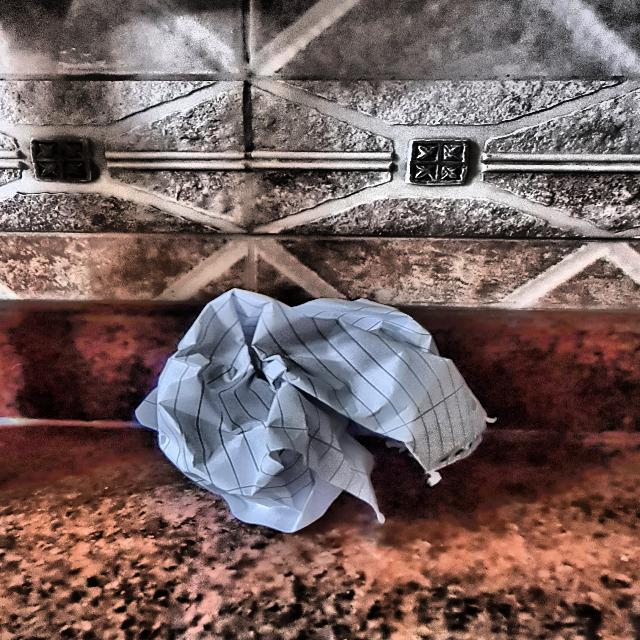paper: (134, 274, 490, 551)
